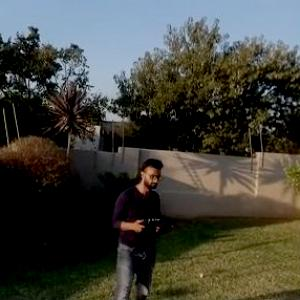follow: (105, 155, 170, 299)
